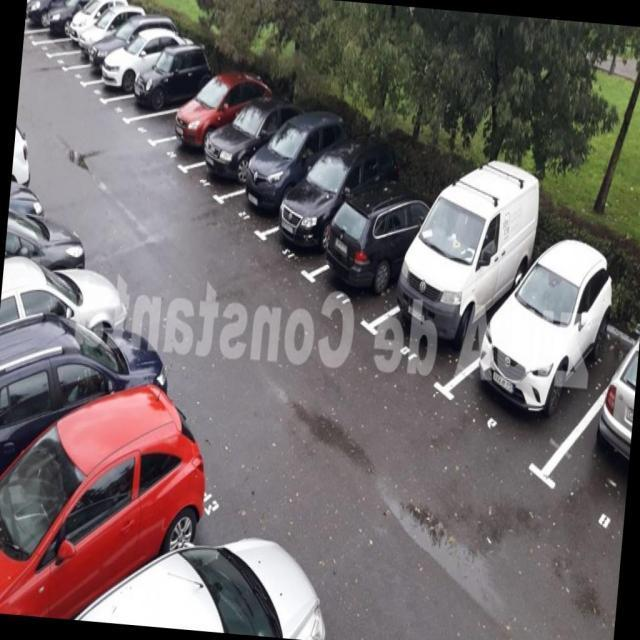car: (0, 383, 222, 630), (0, 282, 186, 473), (472, 282, 630, 437), (391, 214, 521, 377), (0, 238, 142, 381), (316, 178, 440, 321), (268, 153, 392, 271), (572, 309, 640, 505), (227, 128, 352, 232), (188, 114, 295, 199), (154, 96, 262, 172), (49, 15, 152, 86), (62, 31, 164, 98), (31, 8, 131, 72), (111, 62, 209, 126), (84, 46, 182, 109)
free: (137, 77, 218, 146)
